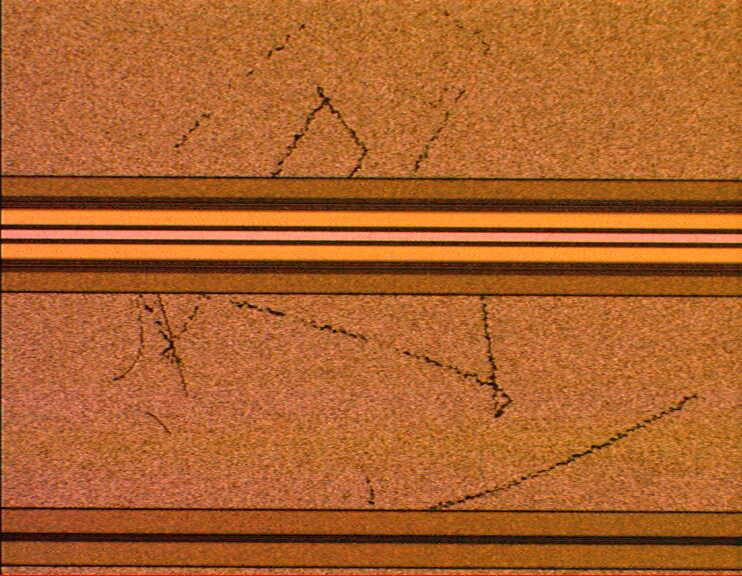SCRATCH: (104, 1, 705, 520)
